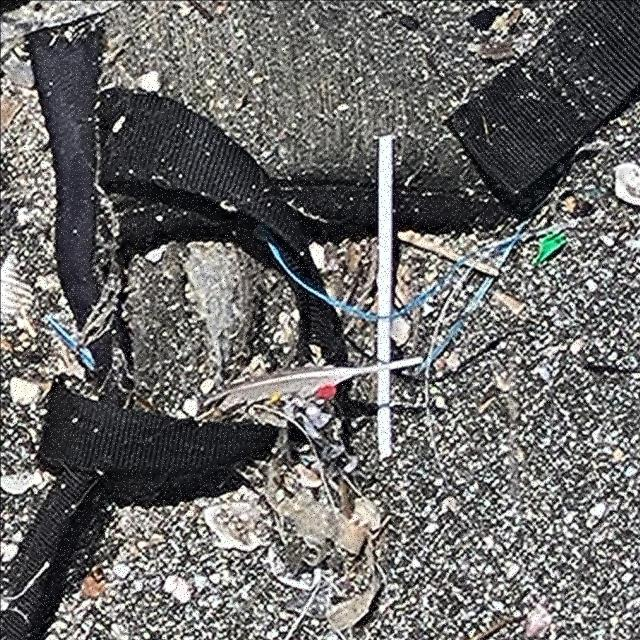plastic_waste: (376, 136, 395, 459)
